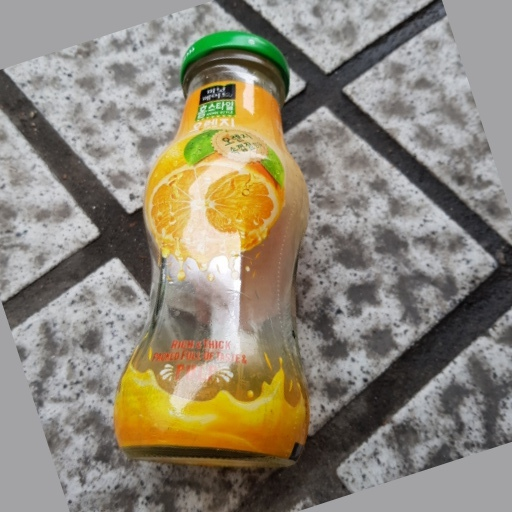Glass_4: (110, 30, 311, 468)
